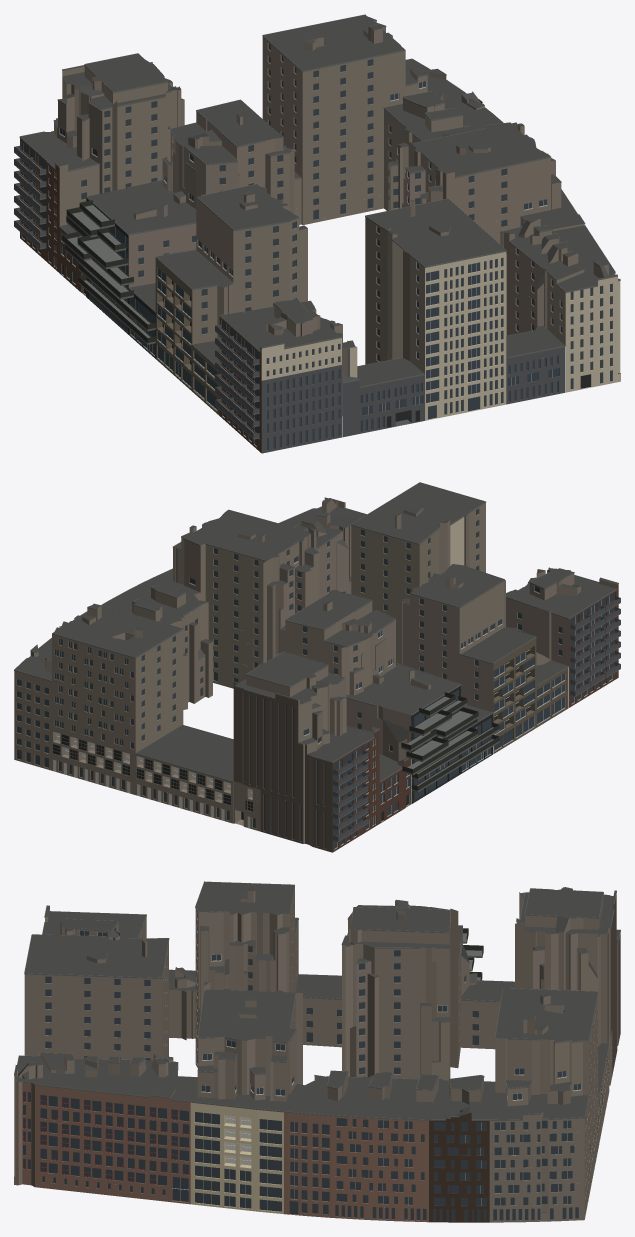
Rendered from westerdoksdijk-215.glb.
The picture shows the model from 3 angles, top to bottom: view 1: azimuth 30°, elevation 25°; view 2: azimuth 150°, elevation 25°; view 3: azimuth 270°, elevation 25°; orthographic projection. The views are drawn at different scales.
Visible parts, largest first — view 1: westerdoksdijk-215; view 2: westerdoksdijk-215; view 3: westerdoksdijk-215.
Boxes of the visible parts, x1,y1,x2,y2 form: westerdoksdijk-215: (14, 14, 620, 453); westerdoksdijk-215: (14, 482, 620, 852); westerdoksdijk-215: (14, 881, 620, 1222).
Bounding box in the file's own units: 99.12 × 38.96 × 120.
